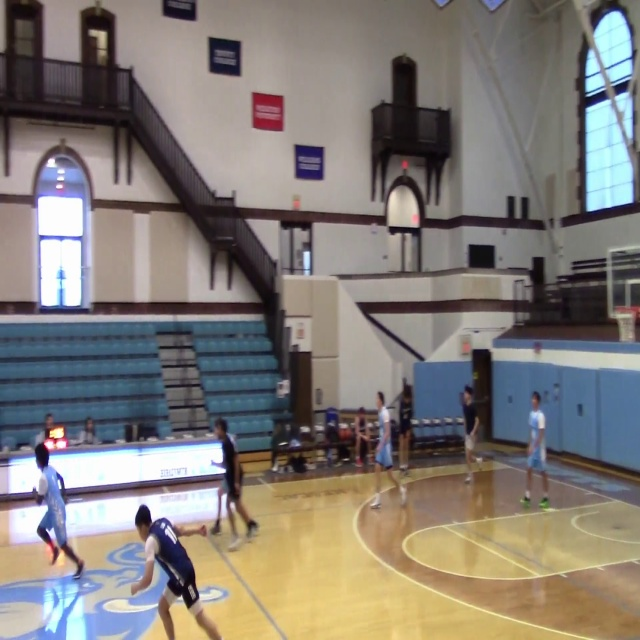Basketball: (199, 525, 207, 537), (475, 457, 482, 463)
